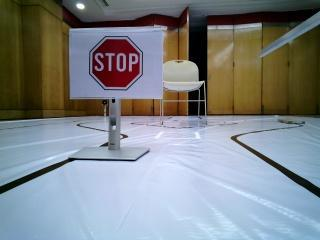stop: (68, 34, 159, 98)
